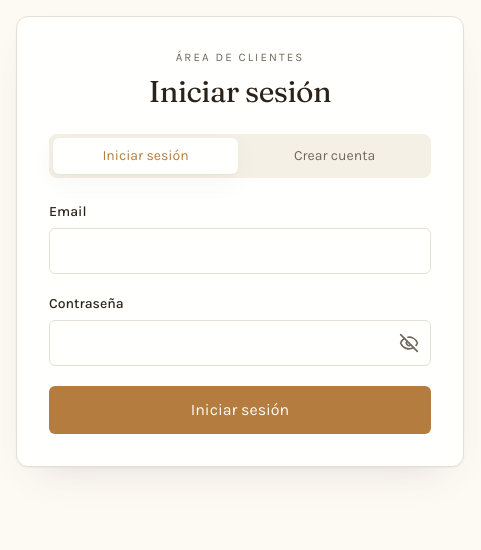
it: AuthView › con credenciales incorrectas muestra un mensaje genérico
Type "ana@test.com" into the field with id "login-email". click: (240, 251)
box: top-left (49, 228), bottom-right (431, 274)
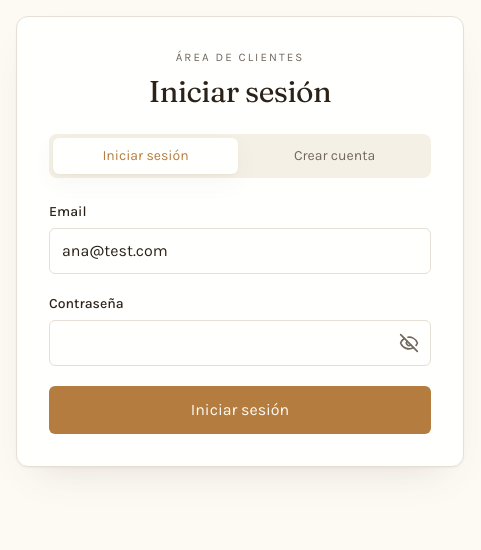
Type "incorrecta" into the password field with id "login-password". click: (240, 343)
box: top-left (49, 320), bottom-right (431, 366)
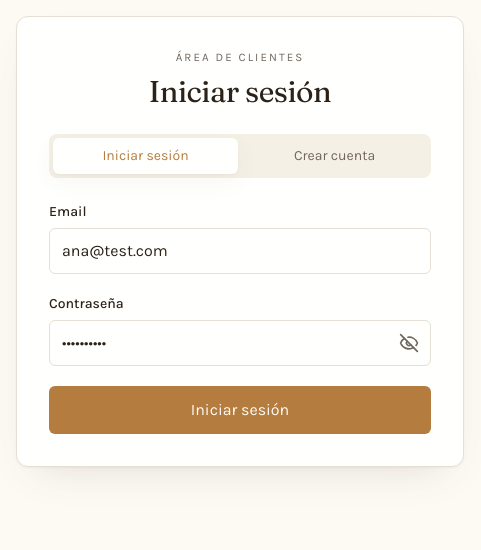
Submit the form, box top-left (49, 202), bottom-right (431, 434)
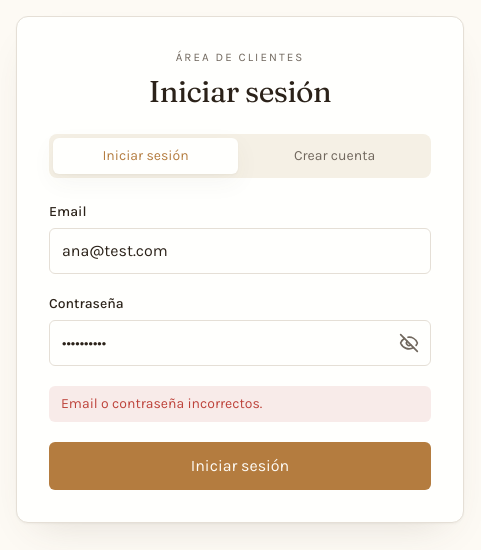
Now the message "Email o contraseña incorrectos." is shown, box top-left (49, 386), bottom-right (431, 422)
